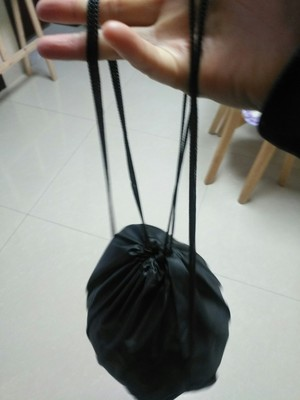ball: (86, 238, 230, 393)
